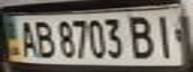0: (87, 16, 106, 60)
3: (103, 15, 127, 61)
7: (69, 16, 90, 58)
8: (54, 17, 75, 59)
A: (15, 17, 39, 59)
B: (124, 12, 160, 60), (30, 17, 57, 59)
I: (148, 11, 181, 60)
